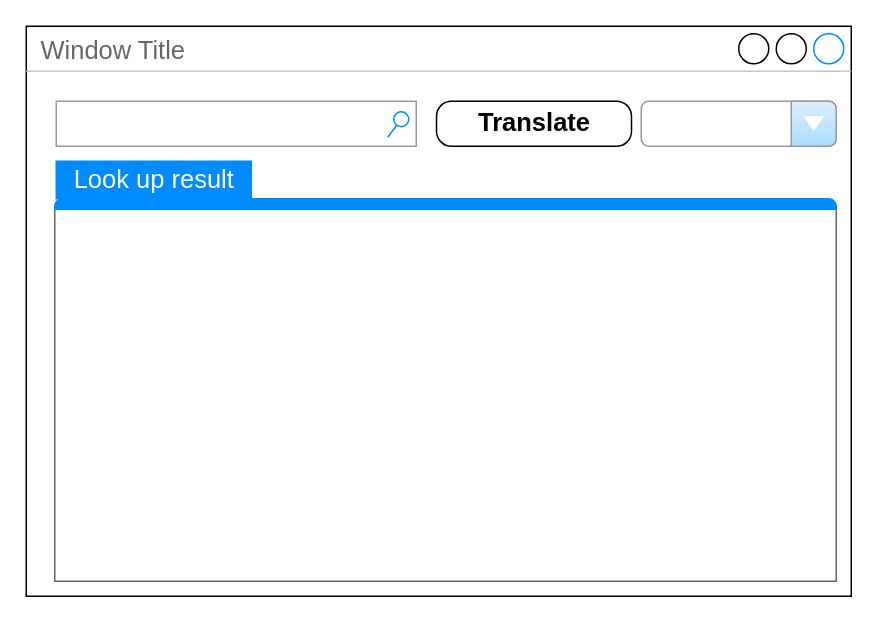
This 878x623 diagram has some shape labels left out. Here are the shapes that lost their labels. From the top down, the centre of each, then its label:
At (235,123): "word".
At (738,123): "Dictionary".
